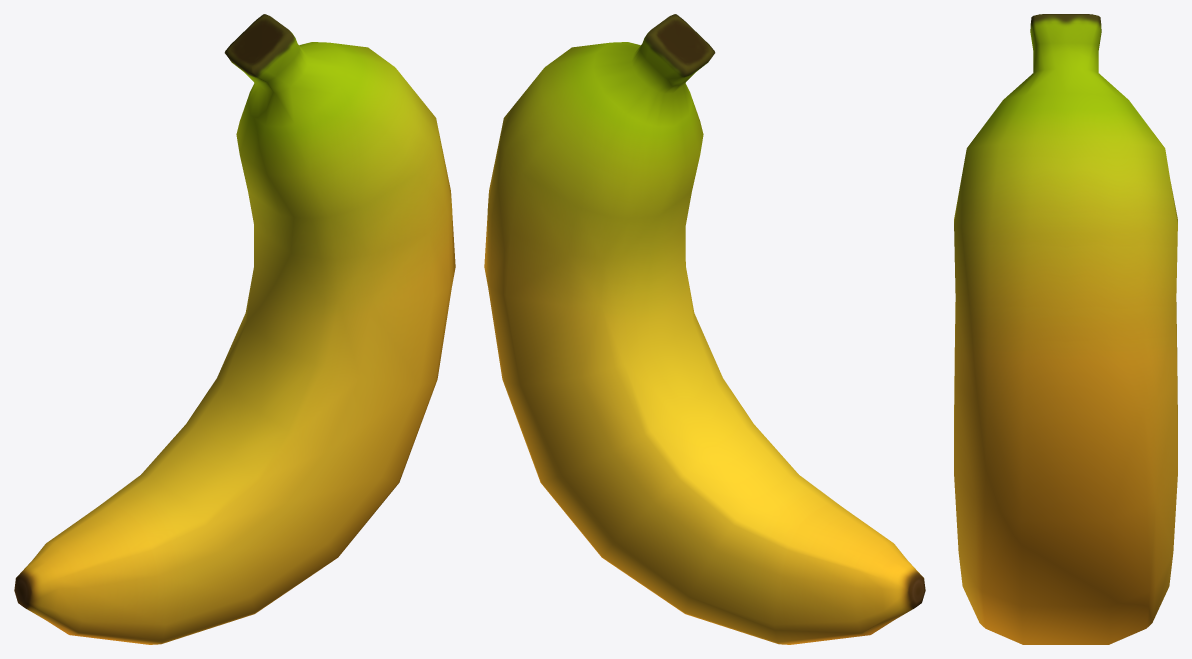
The model's file is banana.glb.
The picture shows the model from 3 angles, left to right: view 1: azimuth 30°, elevation 25°; view 2: azimuth 150°, elevation 25°; view 3: azimuth 270°, elevation 25°; orthographic projection. The views are drawn at different scales.
Parts seen in each view (by area): view 1: Banana; view 2: Banana; view 3: Banana.
Boxes of the visible parts, bbox=[...] form: Banana: bbox=[14, 14, 455, 644]; Banana: bbox=[484, 14, 925, 644]; Banana: bbox=[954, 14, 1177, 644].
Bounding box in the file's own units: 15.46 × 20.46 × 6.18.
1 material, 1 textured.
